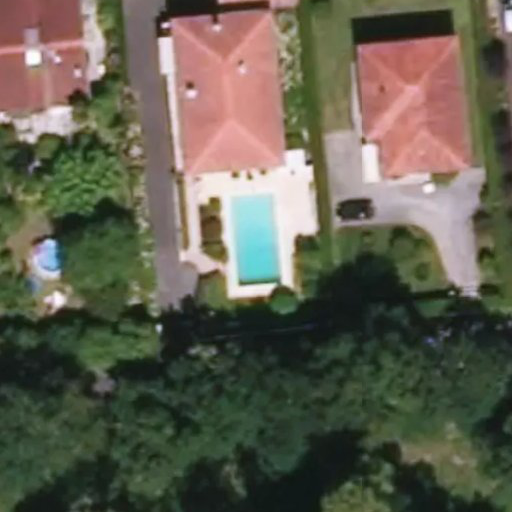pool: (229, 197, 282, 285)
